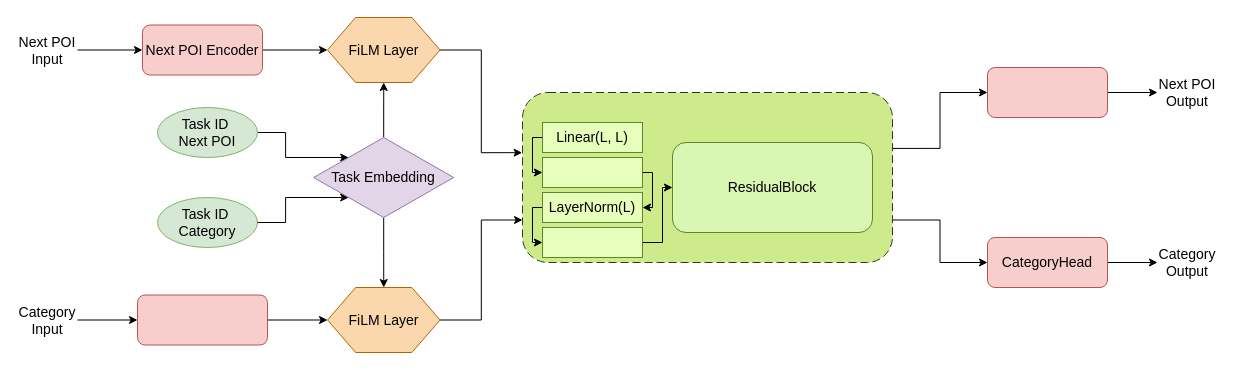
Image size: 1234x370. Some labels were removed from this diagram. The box of each missing label's shape, as (x1, y1, x2, y2) in pixels:
Category Encoder: (136, 294, 268, 345)
Dropout: (542, 226, 642, 258)
LeakyReLU: (542, 156, 642, 188)
NextHead: (986, 66, 1108, 118)
Shared Layers Module: (522, 92, 892, 262)
